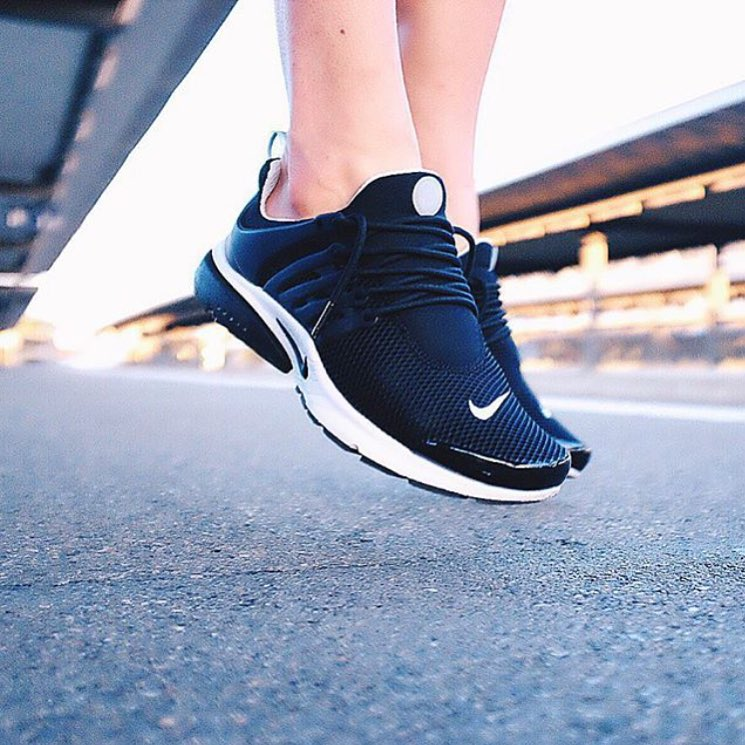sneaker: (171, 114, 586, 526), (344, 151, 607, 488)
